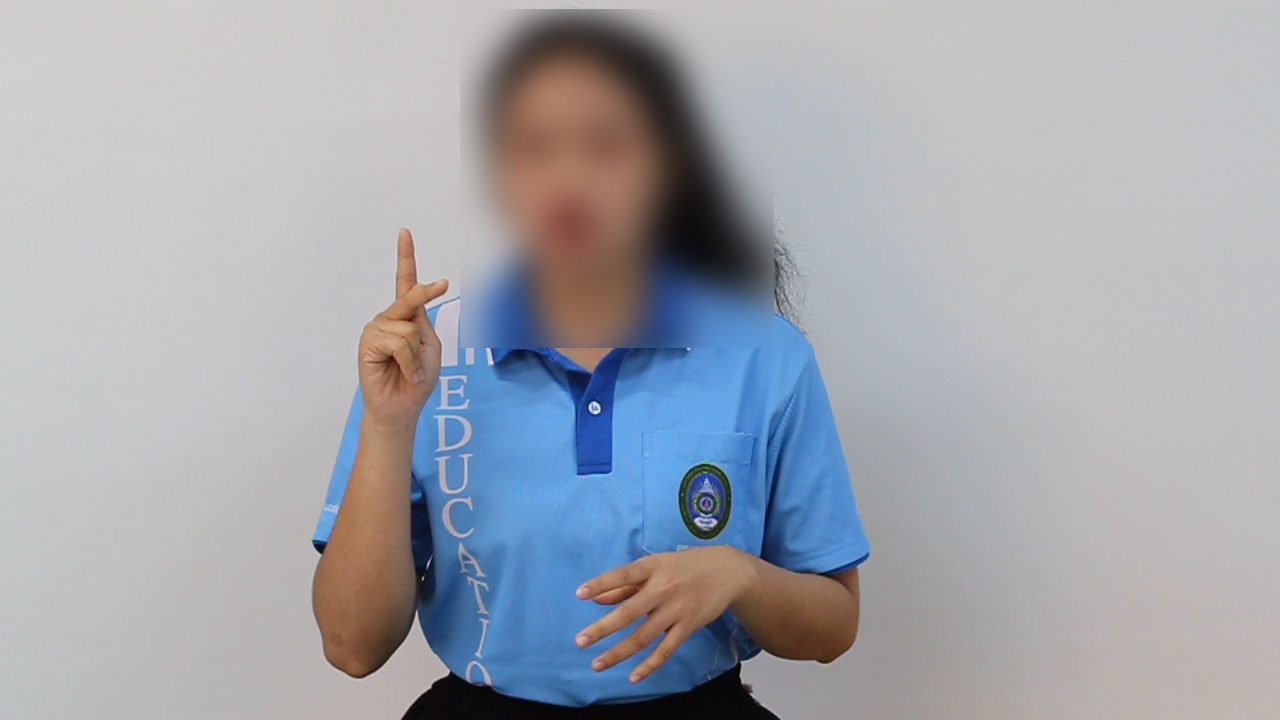ko: (325, 217, 471, 437)
